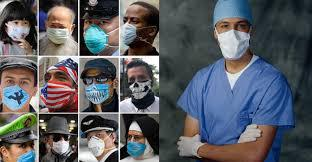OK: (217, 21, 251, 59), (1, 76, 36, 111), (40, 74, 74, 110), (86, 18, 117, 53), (122, 16, 152, 48), (86, 74, 113, 104), (130, 72, 153, 101), (47, 20, 71, 44), (8, 20, 31, 43), (127, 132, 147, 158), (49, 133, 72, 154), (88, 134, 109, 156)
WRONG: (7, 142, 36, 162)
